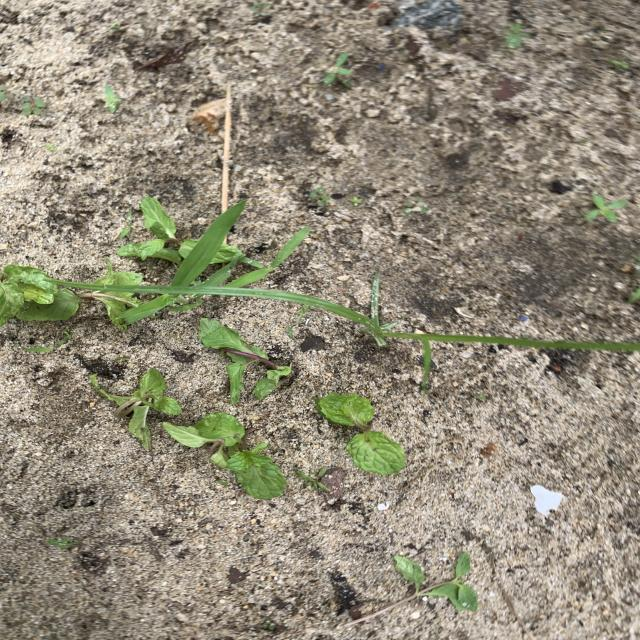crop: (162, 413, 286, 499), (343, 552, 478, 627), (199, 318, 291, 405), (315, 393, 405, 475), (91, 368, 182, 449), (117, 197, 200, 264), (16, 288, 139, 326), (0, 265, 57, 325), (93, 258, 142, 286), (209, 244, 242, 264)
weed: (53, 278, 640, 387), (171, 201, 246, 287), (228, 227, 310, 287), (114, 294, 201, 329), (0, 84, 47, 116), (584, 194, 628, 223), (323, 52, 354, 89), (296, 466, 332, 493), (204, 259, 237, 286), (286, 304, 309, 341), (504, 21, 532, 50), (47, 535, 82, 552), (102, 85, 121, 114), (21, 343, 69, 354), (116, 210, 133, 240), (251, 2, 273, 23), (404, 197, 427, 214), (308, 187, 326, 207), (55, 331, 75, 345), (349, 196, 362, 207)
